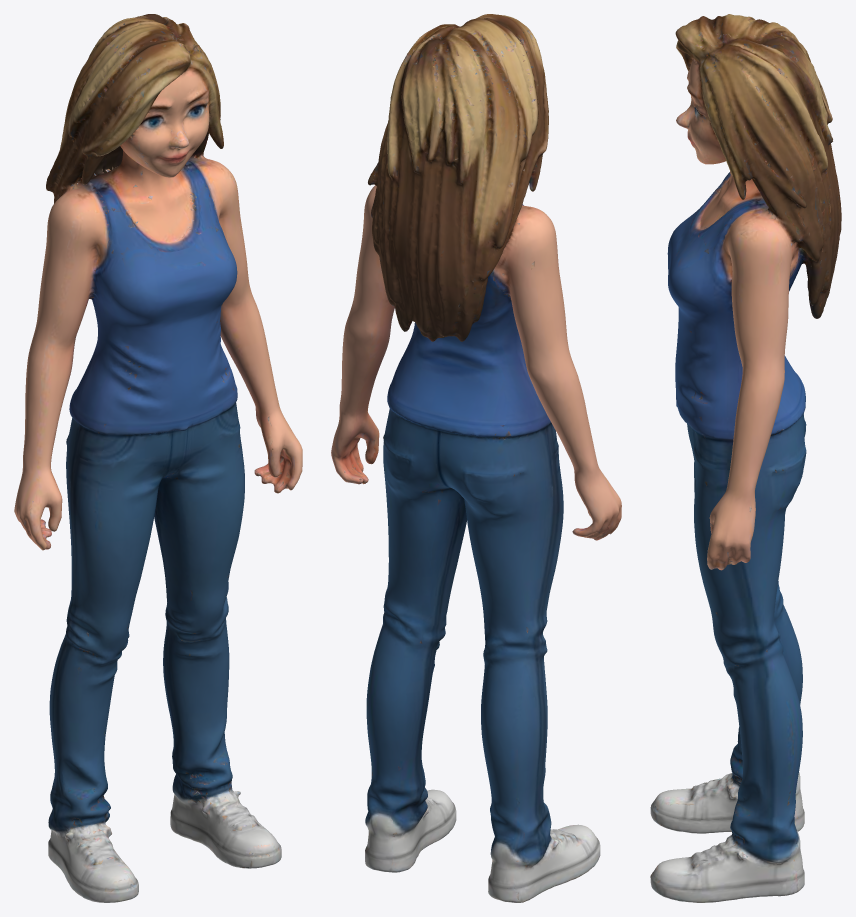
File: jane.glb
3 views of the same model, side by side, from view 1: azimuth 30°, elevation 25°; view 2: azimuth 150°, elevation 25°; view 3: azimuth 270°, elevation 25° (orthographic).
Visible parts, largest first — view 1: Object_4; view 2: Object_4; view 3: Object_4.
Part boxes in pixels (<box>): Object_4: <box>14,14,302,902</box>; Object_4: <box>331,14,621,902</box>; Object_4: <box>650,14,841,902</box>.
Size of the model in its own units: 0.672 by 1.91 by 0.3968.
1 material, 1 textured.
